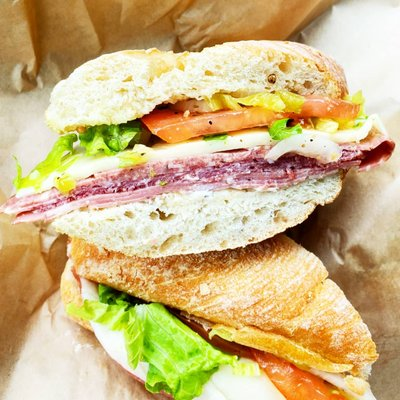soup: (13, 23, 399, 371)
